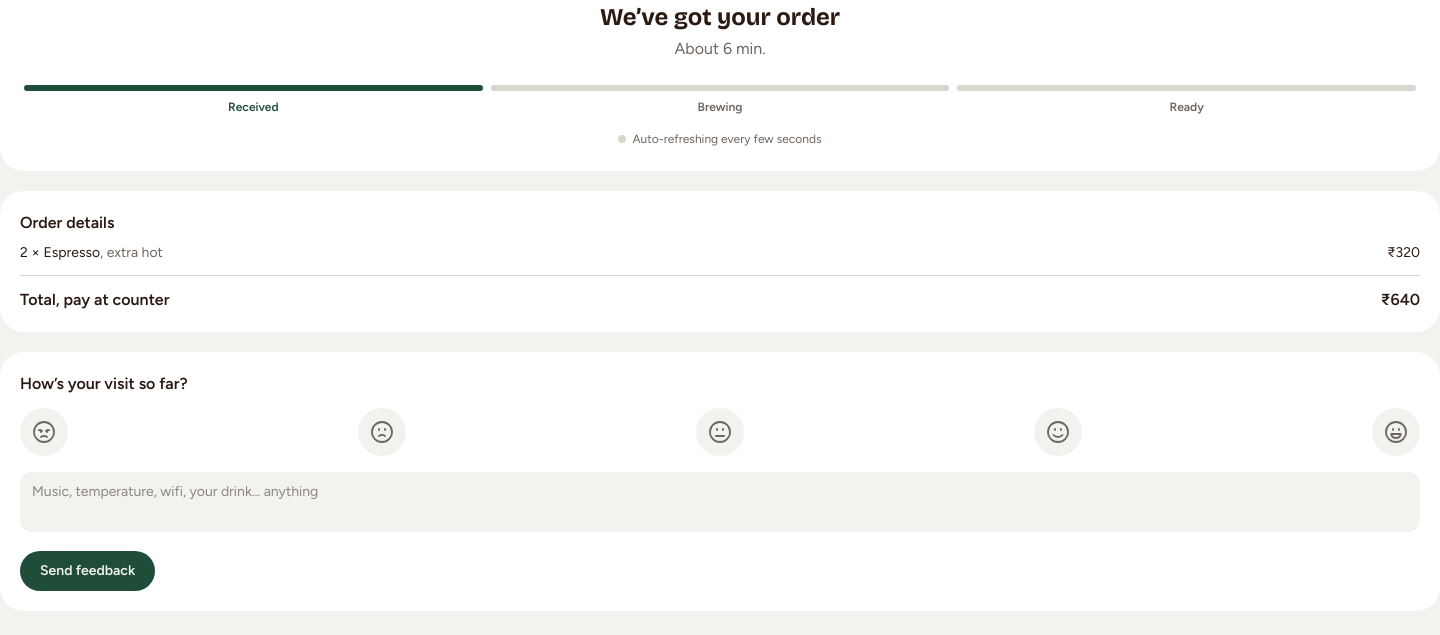
Scenario: OrderTracker: feedback card › asks for a rating before sending anything
(page scrolled)
Click the button "Send feedback" at (88, 571), box [20, 551, 155, 591]
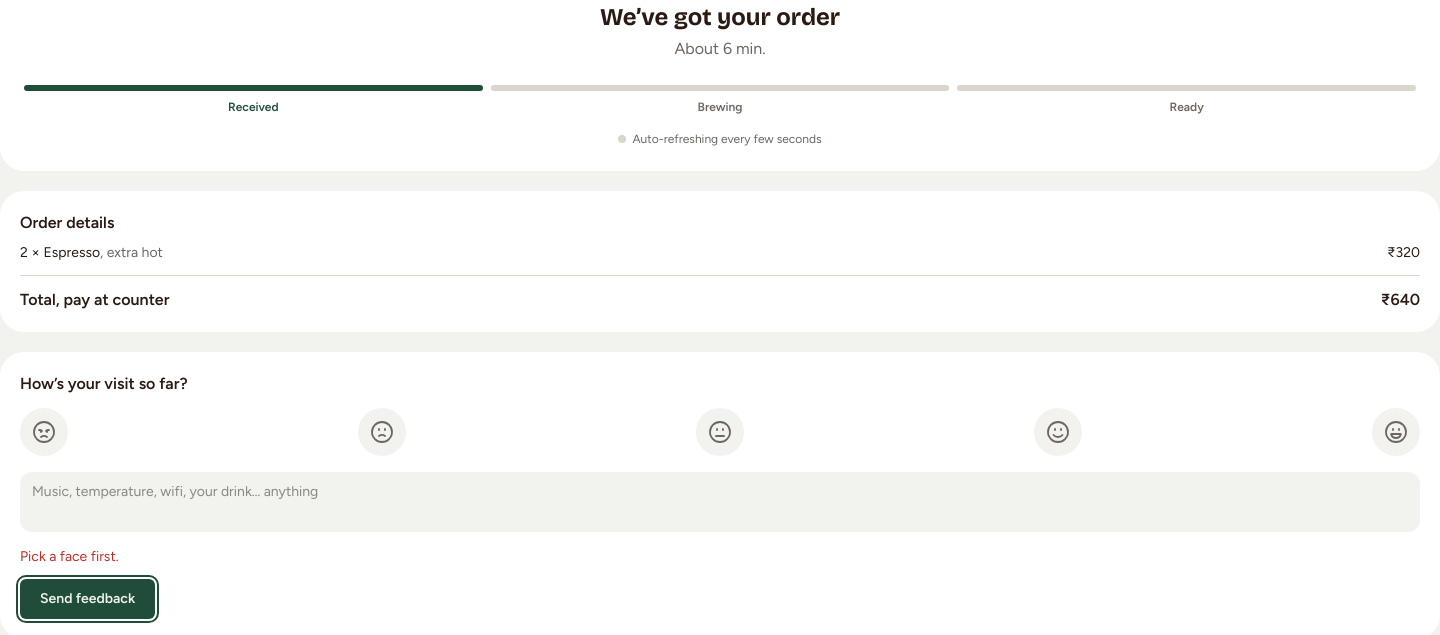
Now the text "Pick a face first." is shown, box [20, 548, 119, 565]
